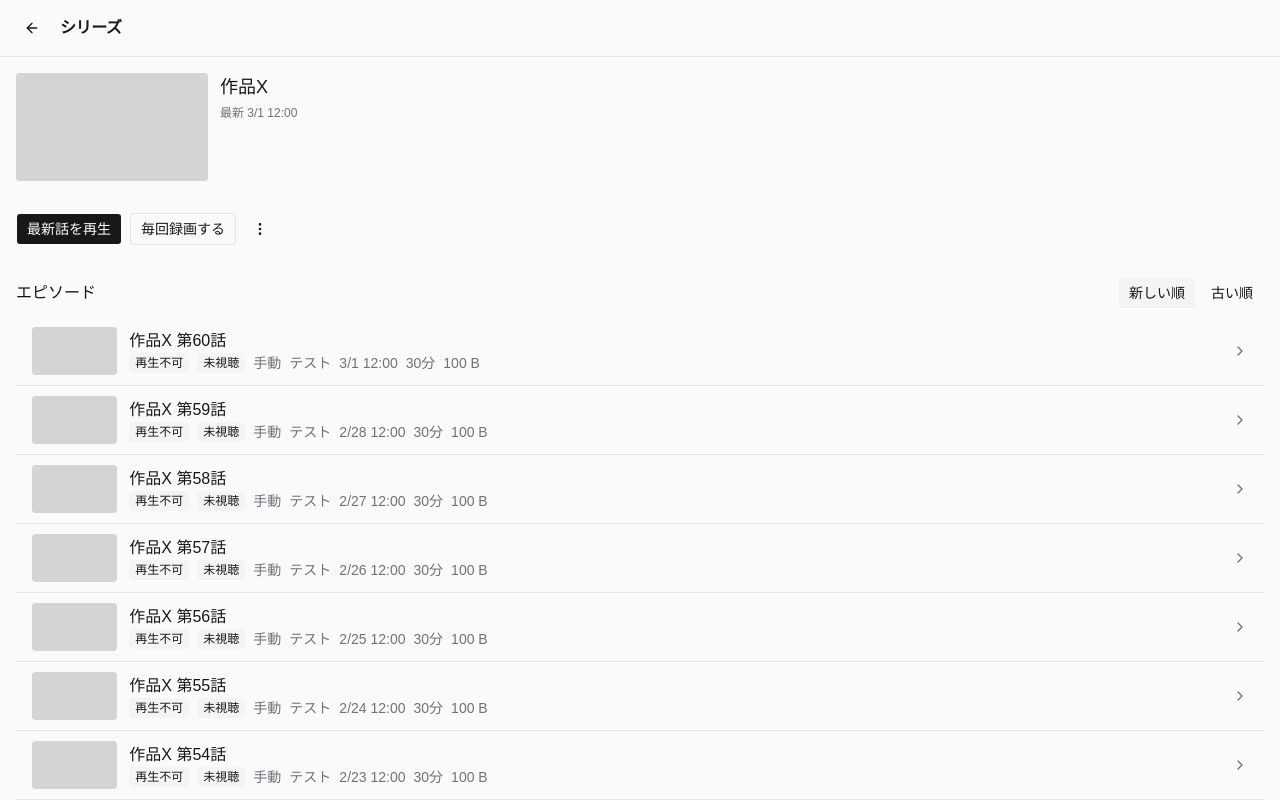
SeriesHubPage › 古い順にしても、最新話の主ボタン・サムネイル・最新日時は新しい順の 1 ページ目のまま
The width and height of the screenshot is (1280, 800).
Click the button "古い順": x=1232, y=293 1200,277 -> 1264,309
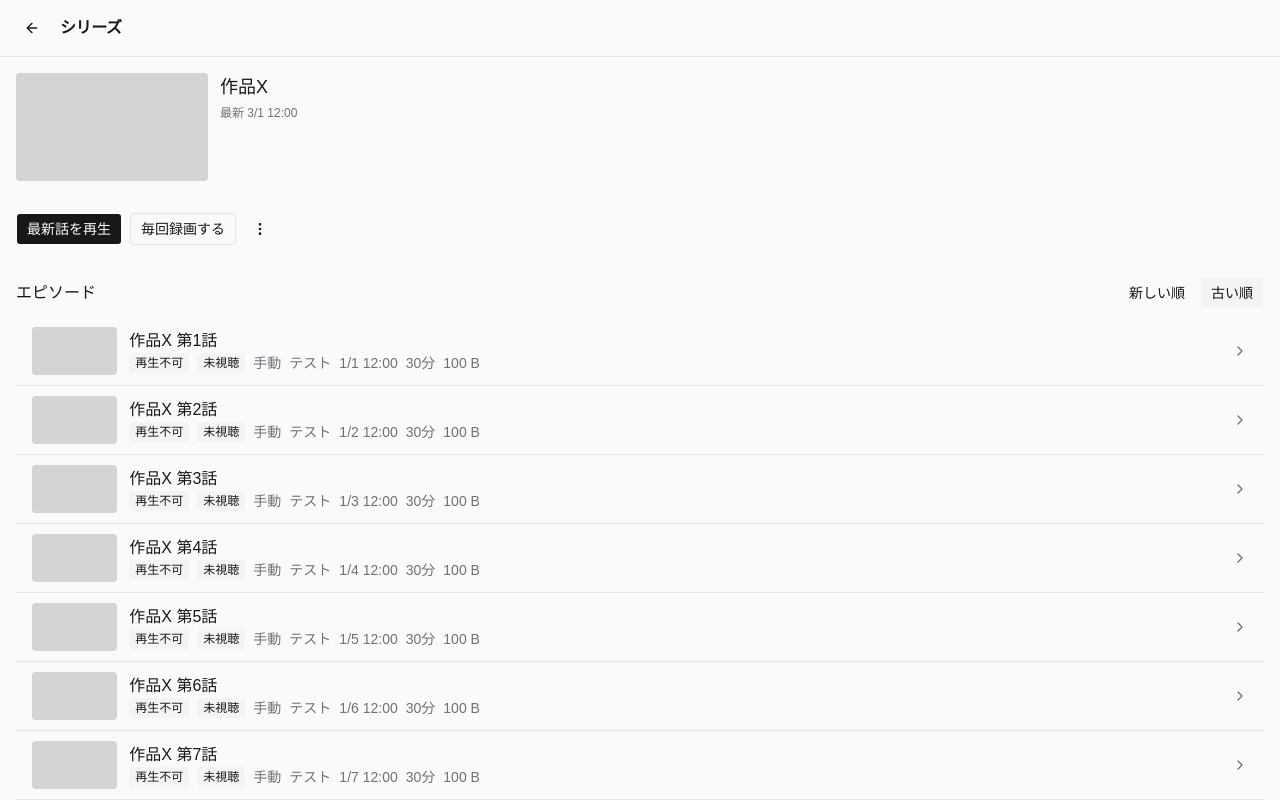
expect the link named "作品X 第1話" is shown: met, box 16,317 -> 1264,385
